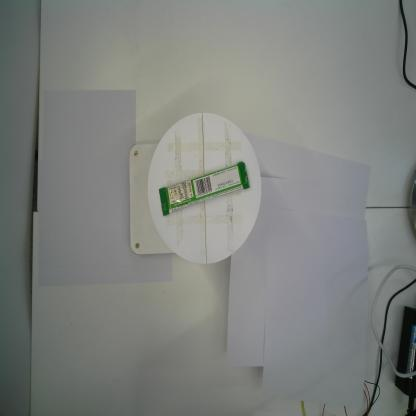Chocolate: (158, 161, 250, 216)
